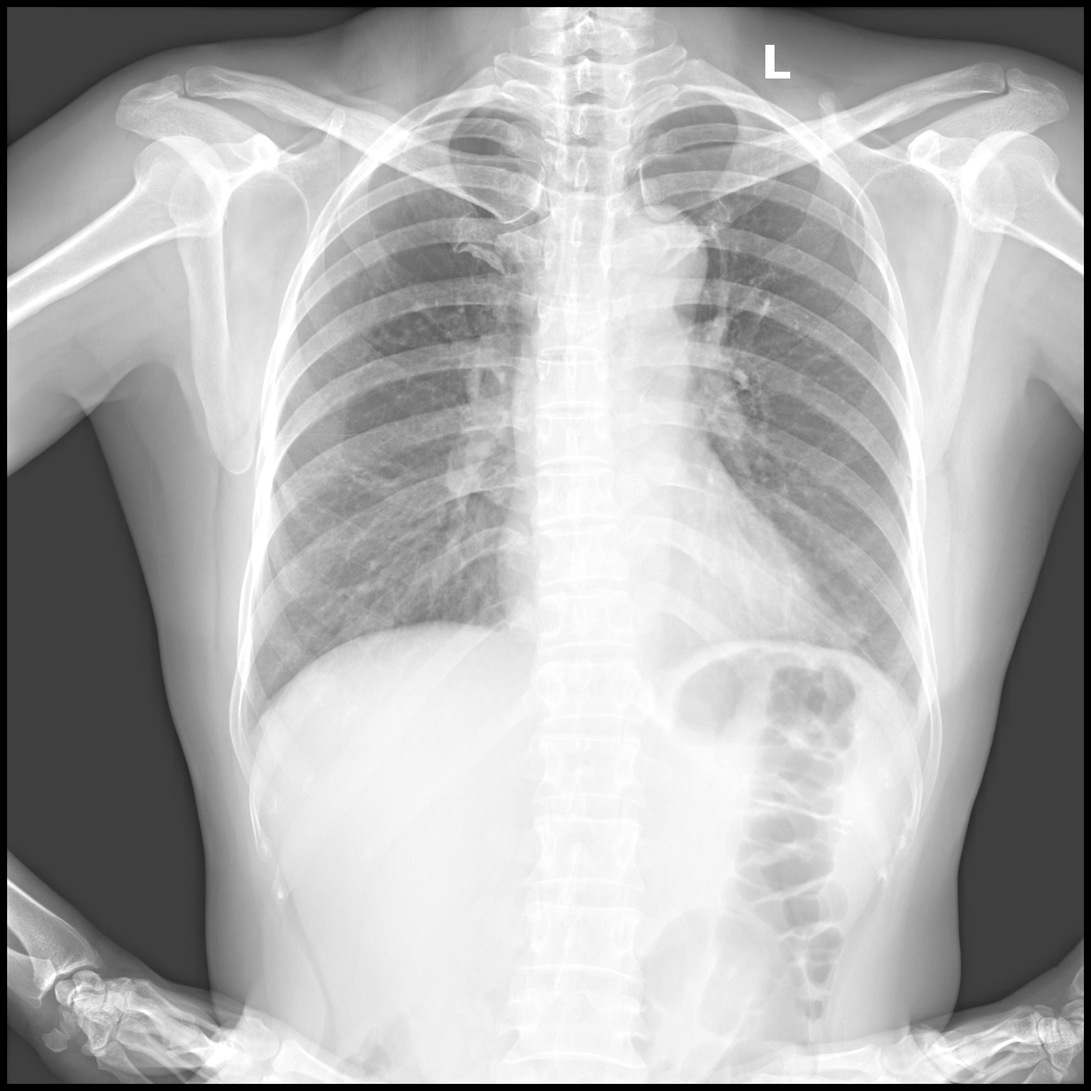Aortic enlargement: (597, 204, 709, 327)
